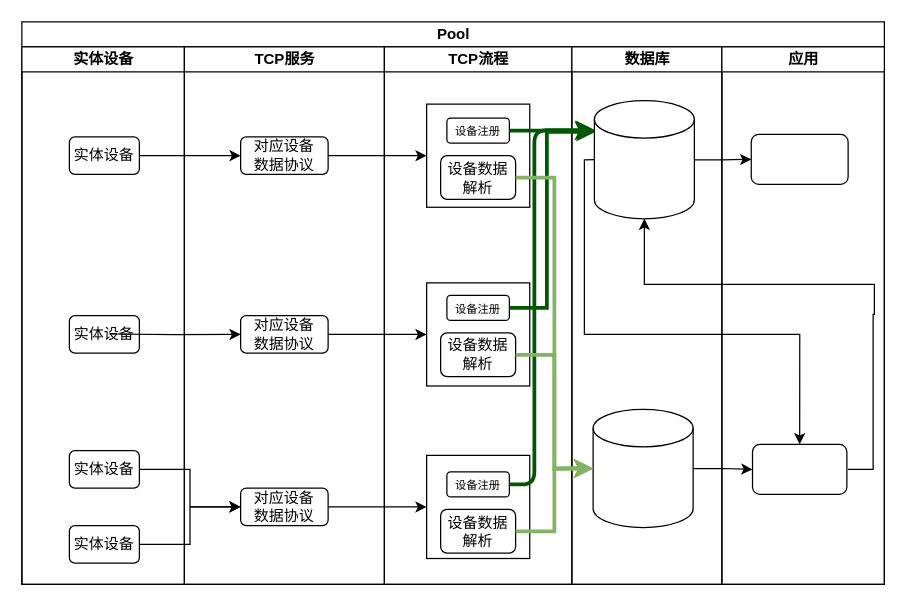
Image size: 906x606. Some labels were removed from this diagram. Here are the shapes that lost their labels. From the top down, the centre of each, then its label:
At (643,159): "业务数据库".
At (799,158): "应用项目".
At (642,468): "采集数据库".
At (799,468): "kettle服务".
